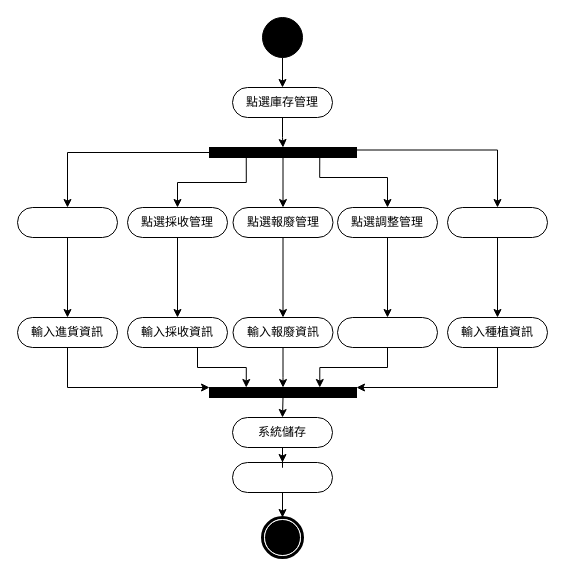
Some shapes in this 565 by 575 pixel diagram are drawn without their labels. The shapes that lost their labels are listed below. From the top down, each one's box as (x1, y1, x2, y2) in pixels, then its label:
(16, 206, 118, 238): 點選進貨管理
(446, 206, 548, 238): 點選生產管理
(336, 316, 438, 348): 輸入調整資訊
(232, 462, 332, 492): 更新庫存
